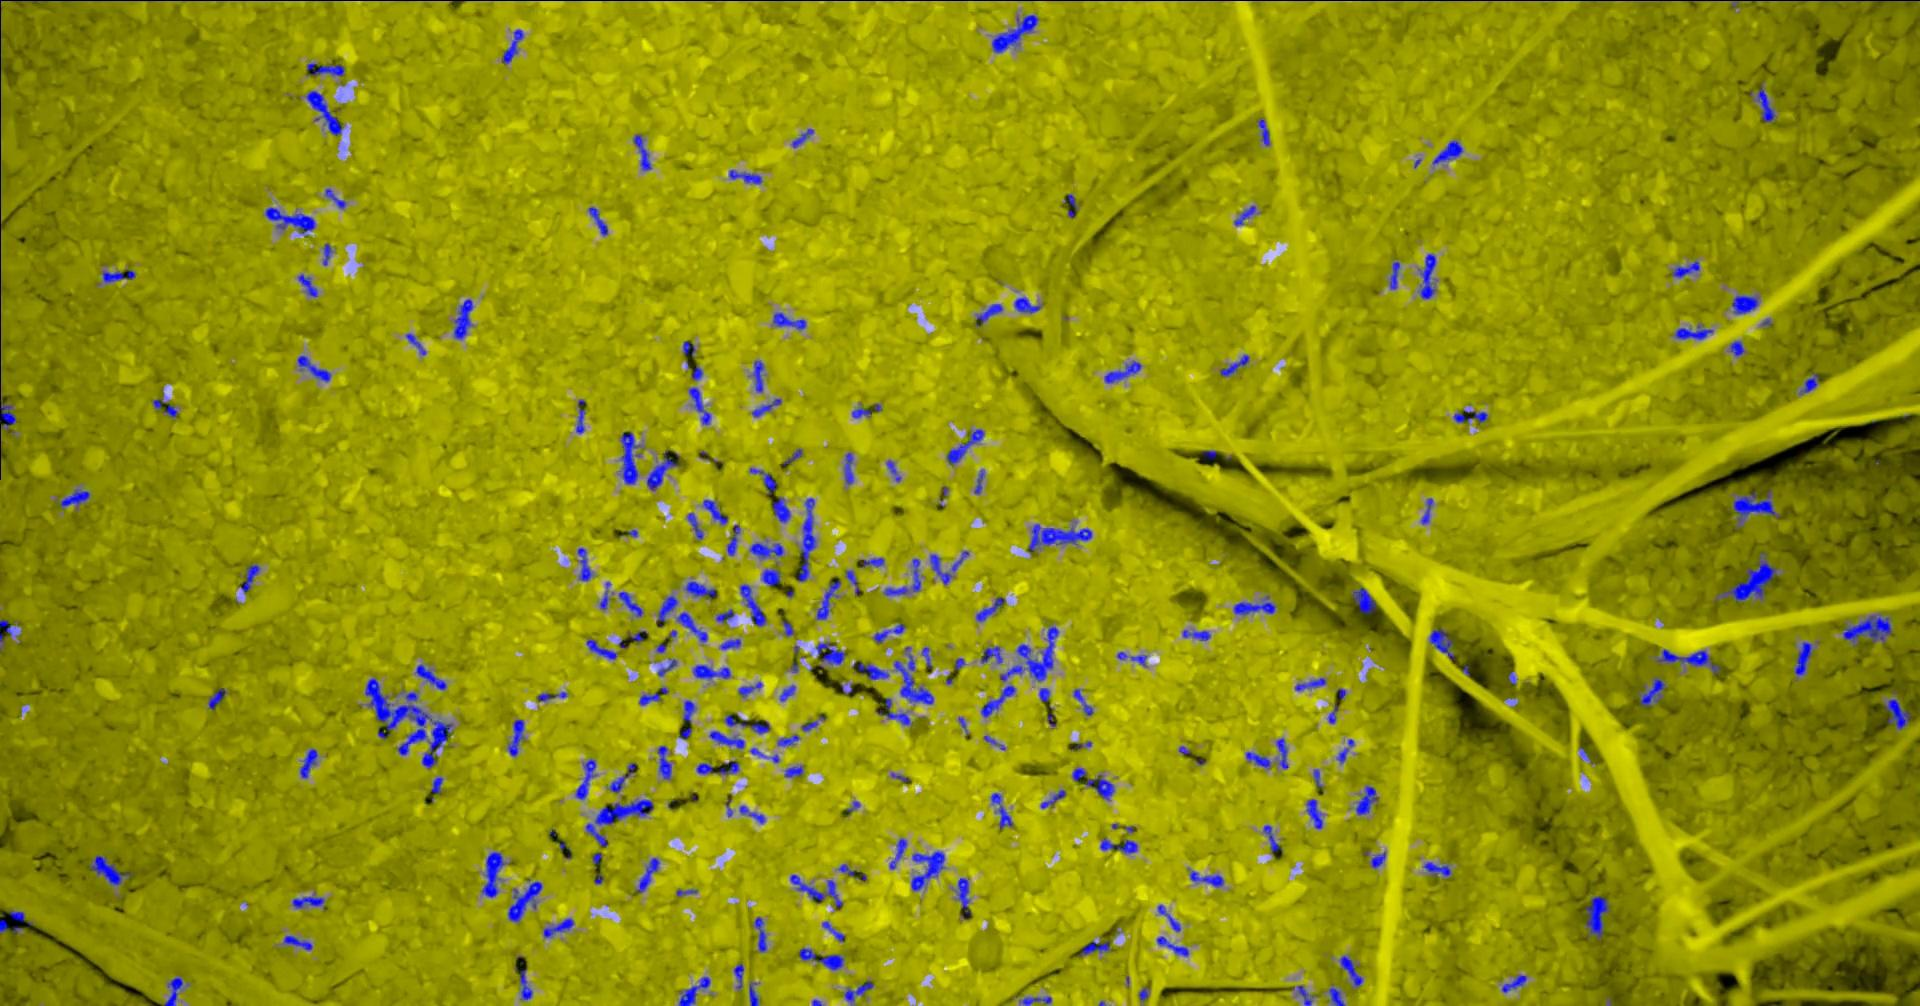ant: (999, 626, 1058, 681), (585, 799, 651, 847), (1716, 551, 1777, 601), (893, 647, 933, 704), (990, 14, 1037, 52), (789, 874, 842, 907), (1027, 523, 1091, 550), (1657, 648, 1719, 674), (305, 90, 342, 135), (1732, 489, 1779, 521), (797, 497, 815, 580), (264, 207, 315, 236), (1843, 614, 1891, 643), (507, 882, 542, 921), (88, 855, 133, 885), (883, 558, 919, 594), (646, 450, 679, 490), (946, 428, 983, 464), (910, 851, 943, 890), (739, 584, 766, 626), (481, 851, 505, 897), (1583, 895, 1609, 939), (980, 685, 1015, 716), (620, 431, 639, 484), (797, 948, 843, 969), (817, 579, 841, 619), (876, 697, 912, 724), (676, 612, 707, 641), (678, 976, 709, 1005), (1103, 359, 1140, 384), (297, 354, 330, 381), (724, 714, 770, 733), (635, 857, 659, 892), (575, 758, 596, 799), (1233, 594, 1275, 614), (688, 387, 710, 424), (453, 298, 472, 339), (1429, 629, 1454, 659), (1883, 699, 1909, 729), (610, 762, 635, 793), (1418, 253, 1435, 298), (1084, 774, 1114, 799), (502, 29, 523, 64), (990, 793, 1012, 827), (415, 664, 446, 688), (1338, 955, 1363, 986), (749, 467, 776, 494), (975, 596, 1003, 621), (1639, 677, 1665, 705), (1432, 140, 1462, 164), (632, 133, 651, 170), (844, 981, 872, 1005), (1156, 936, 1189, 956), (815, 641, 844, 664), (930, 554, 951, 584), (507, 719, 524, 756), (702, 499, 728, 525), (657, 594, 677, 626), (872, 622, 904, 643), (852, 662, 888, 680), (709, 730, 744, 748), (1219, 354, 1248, 376), (1355, 785, 1377, 814), (1098, 837, 1137, 854), (58, 488, 89, 508), (585, 639, 616, 659), (618, 591, 643, 616), (975, 304, 1002, 326), (1352, 587, 1375, 614), (1157, 904, 1180, 931), (957, 876, 971, 920), (1757, 86, 1774, 122), (1794, 641, 1812, 674), (696, 760, 738, 774), (750, 398, 781, 417), (692, 664, 730, 680), (298, 748, 317, 779), (1189, 870, 1223, 887), (588, 206, 607, 235), (543, 918, 573, 937), (772, 312, 805, 329), (637, 687, 668, 705), (306, 62, 344, 76), (1674, 325, 1712, 339), (240, 564, 259, 592), (163, 977, 182, 1005), (0, 398, 17, 429), (684, 580, 716, 597), (749, 542, 783, 558), (1291, 984, 1317, 1005), (1731, 295, 1757, 314), (1073, 688, 1092, 715), (1263, 824, 1283, 851), (577, 547, 592, 580), (771, 497, 790, 522), (1040, 789, 1065, 808), (1305, 799, 1322, 828), (889, 838, 905, 868), (1453, 409, 1487, 423), (297, 273, 317, 296), (822, 921, 844, 941), (728, 169, 761, 183), (1671, 260, 1699, 277), (657, 746, 670, 779), (739, 805, 764, 823), (753, 916, 766, 951), (1079, 940, 1109, 955), (686, 512, 702, 539), (425, 776, 442, 803), (324, 188, 345, 208), (1233, 205, 1255, 225), (405, 333, 425, 354), (518, 968, 532, 998), (102, 269, 135, 282), (1336, 738, 1352, 763), (1244, 751, 1270, 767), (1501, 976, 1526, 992), (791, 128, 813, 147), (1799, 371, 1818, 392), (0, 915, 22, 934), (1116, 652, 1145, 666), (283, 935, 312, 949), (1423, 861, 1450, 876), (1294, 677, 1326, 690), (292, 895, 324, 908), (1015, 297, 1040, 312), (752, 359, 763, 392), (738, 681, 761, 697), (1276, 737, 1288, 768), (951, 550, 968, 572), (599, 580, 612, 608), (575, 399, 585, 433), (728, 525, 739, 555), (1420, 498, 1432, 525), (844, 570, 858, 594), (782, 448, 803, 465), (980, 647, 1001, 663), (208, 688, 225, 709), (843, 452, 853, 484), (1182, 629, 1210, 640), (761, 569, 780, 586), (657, 659, 676, 676), (1257, 118, 1269, 145), (886, 460, 900, 481), (1389, 260, 1399, 290), (1064, 194, 1077, 217), (1020, 996, 1051, 1005), (778, 683, 795, 700), (536, 691, 566, 700), (1328, 987, 1343, 1005), (748, 982, 759, 1005), (733, 963, 743, 988), (1370, 851, 1385, 868), (715, 608, 733, 622), (683, 700, 695, 721), (974, 470, 984, 494), (783, 765, 803, 777), (720, 638, 740, 649), (777, 734, 797, 746), (851, 406, 870, 418), (682, 340, 695, 357), (8, 909, 24, 922), (323, 243, 331, 265), (627, 630, 645, 641), (1730, 340, 1743, 354), (1072, 767, 1086, 781), (781, 619, 792, 635), (862, 558, 883, 567), (163, 404, 177, 417), (0, 619, 11, 634), (691, 365, 702, 379), (1037, 687, 1049, 701)
